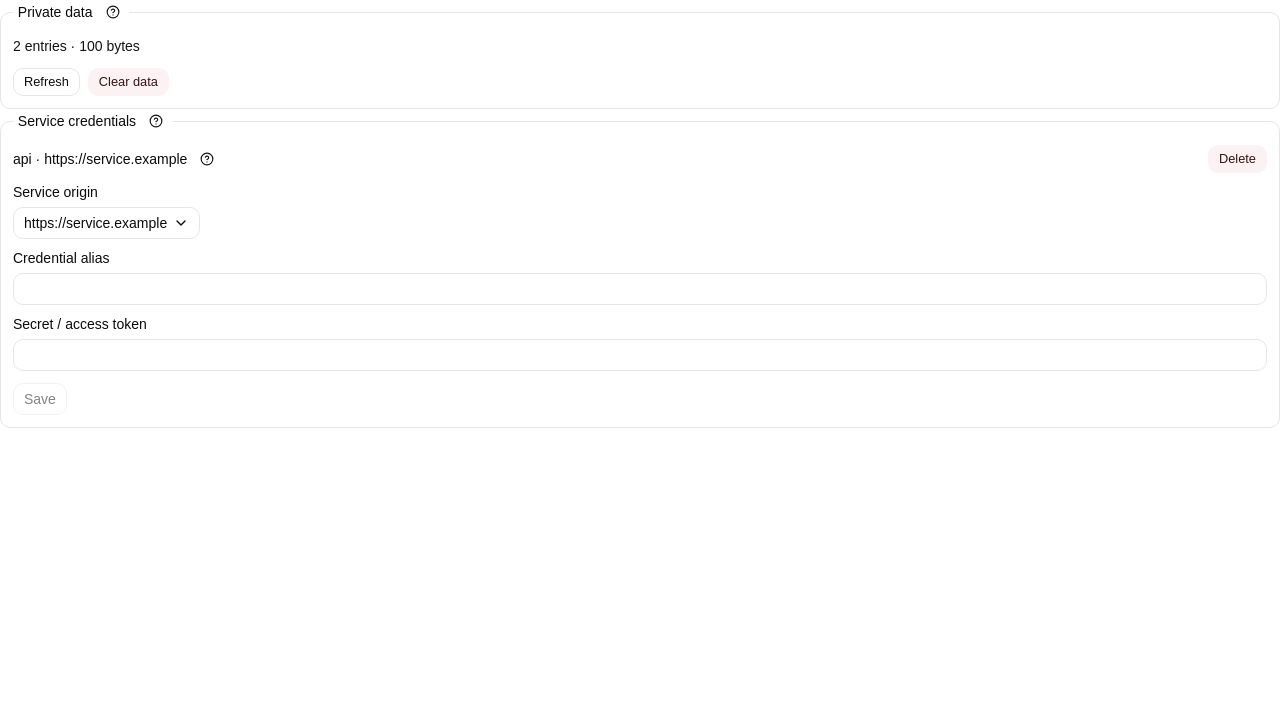
Test: keeps failed credential deletion open for retry and focuses the origin when the slot disappears
The width and height of the screenshot is (1280, 720).
Click the button with aria-label "Delete credential api". click: coordinates (1238, 159)
box: x1=1208 y1=145 x2=1267 y2=173
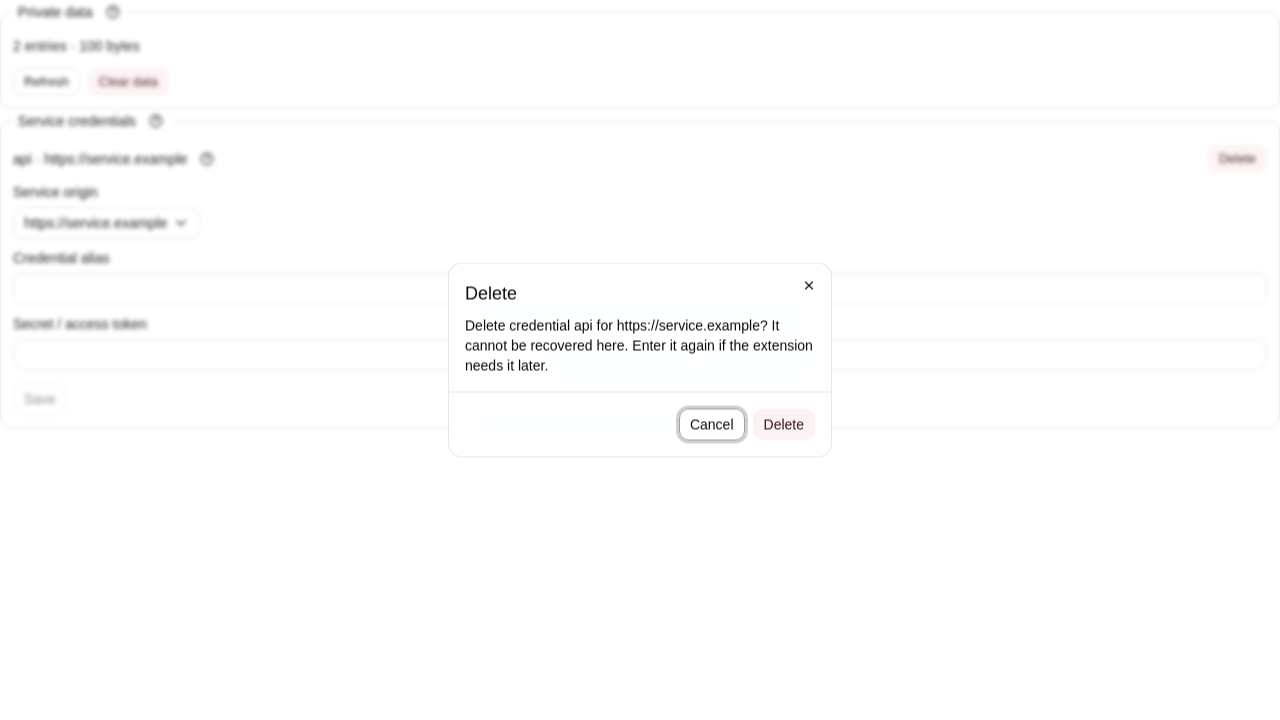
Click the button "Delete". click: coordinates (784, 424)
box: x1=752 y1=408 x2=815 y2=440
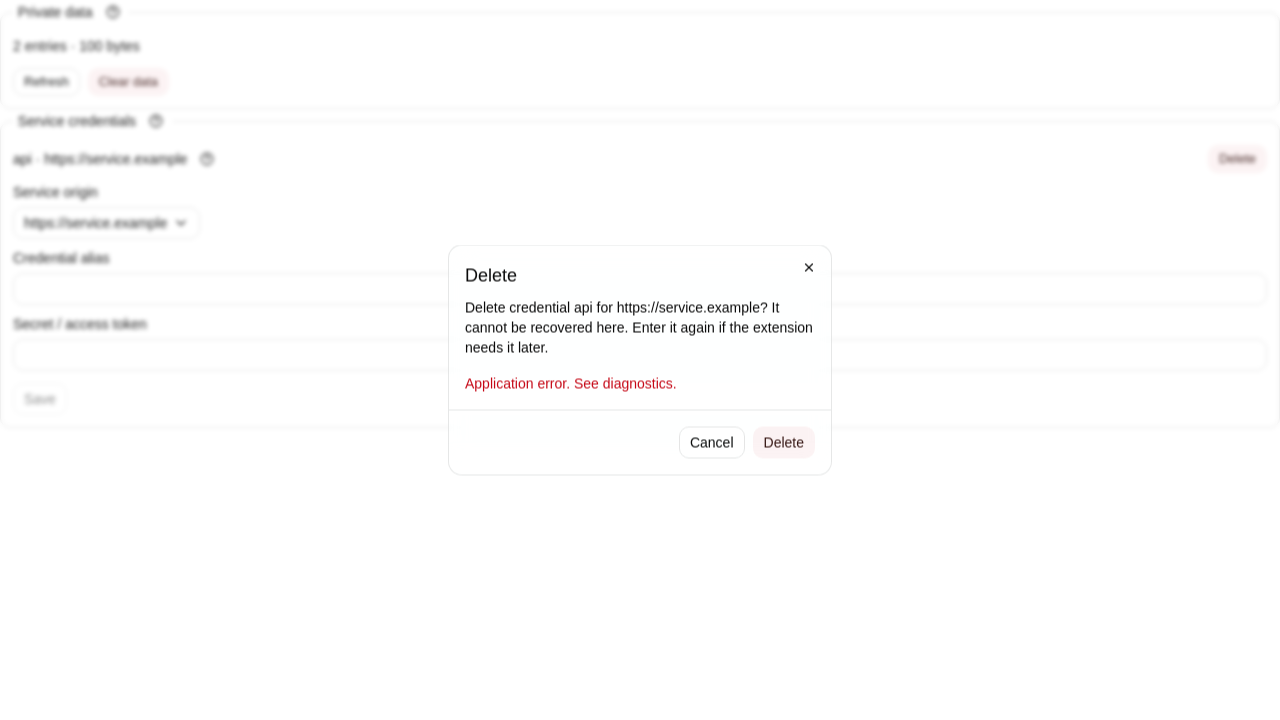
Result: the dialog "Delete" is shown at x1=448 y1=244 x2=832 y2=476
Result: the message "Application error. See diagnostics." is shown at x1=465 y1=376 x2=677 y2=392
Click the button "Delete". click: coordinates (784, 442)
box: x1=752 y1=426 x2=815 y2=458
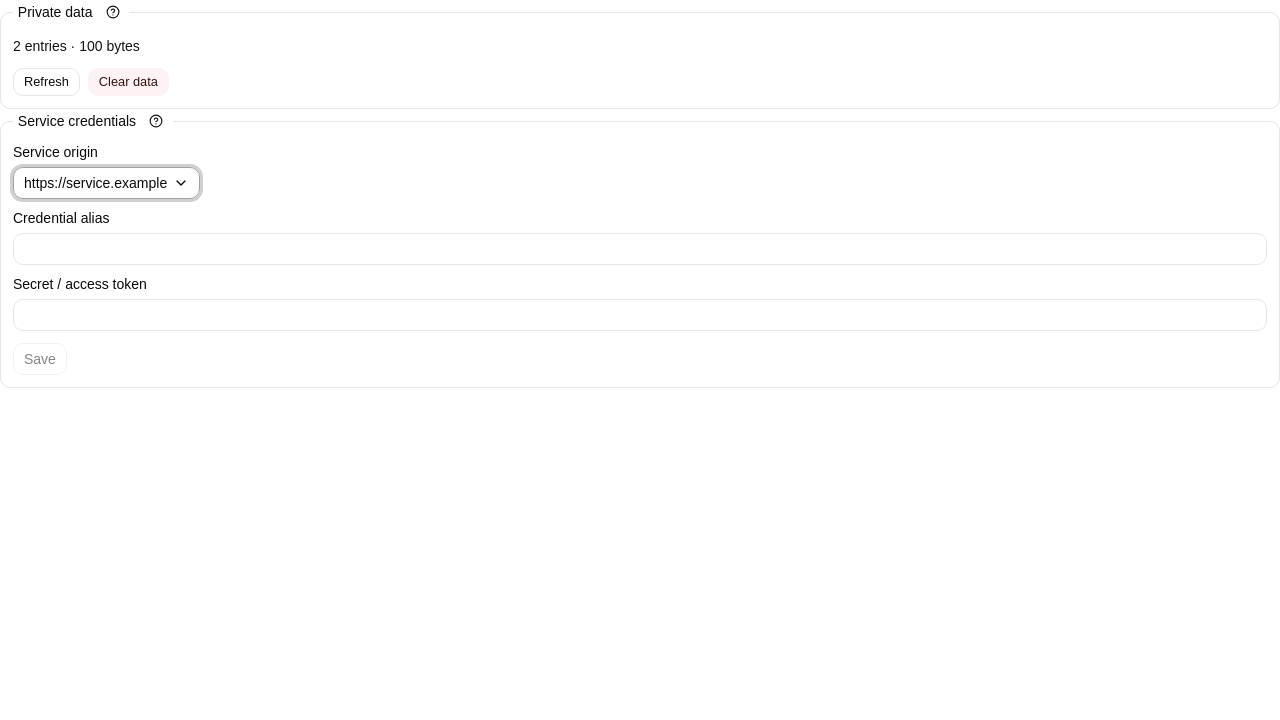
Result: the dialog is gone
Result: the text "Delete credential api" is gone
